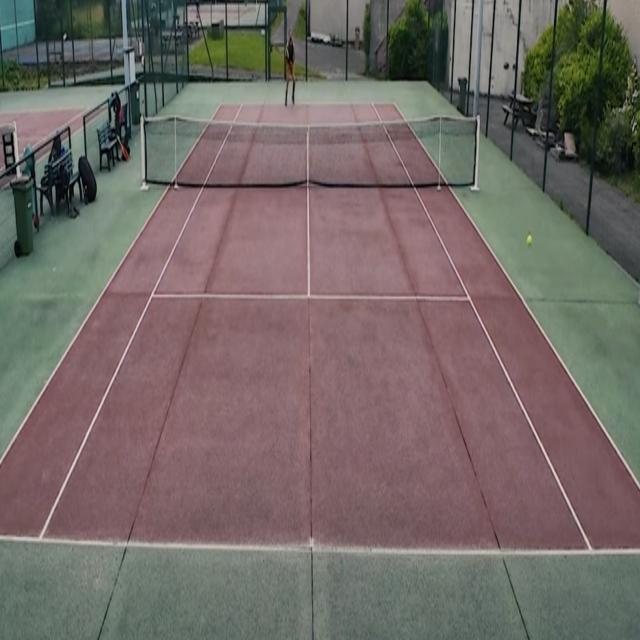ball: (526, 232, 533, 249)
